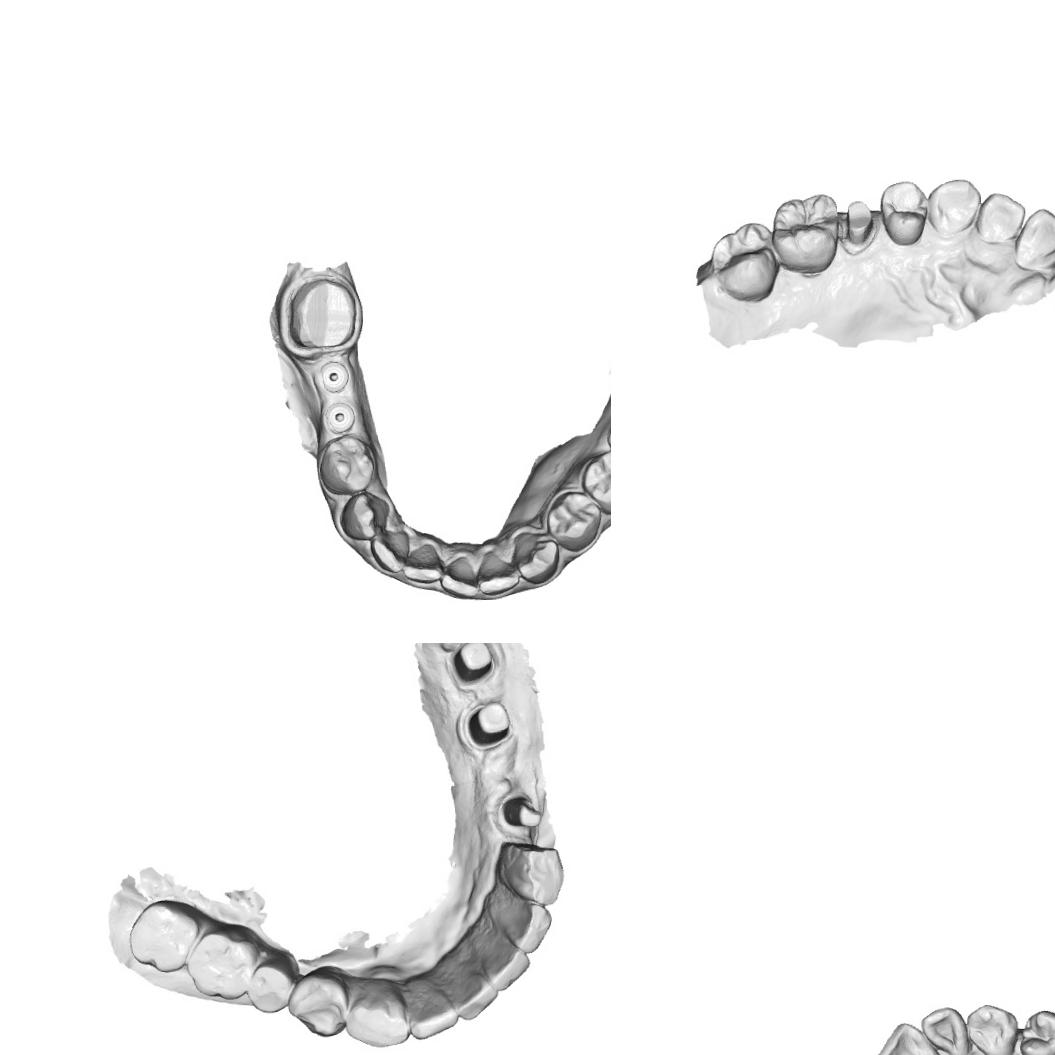abutment: (464, 697, 514, 751), (501, 790, 545, 832), (451, 643, 496, 684)
canine: (342, 976, 413, 1050), (495, 838, 567, 907), (926, 176, 984, 238), (337, 488, 393, 545), (964, 1002, 1019, 1055), (510, 528, 560, 586)
crown: (838, 198, 878, 256)
implant: (319, 397, 359, 435), (316, 360, 354, 394)
incisor: (498, 896, 554, 957), (408, 982, 461, 1042), (446, 968, 501, 1024), (974, 189, 1027, 246), (480, 936, 531, 995), (1012, 206, 1055, 271), (919, 1004, 972, 1055), (874, 1019, 946, 1055), (473, 546, 520, 599), (368, 527, 416, 576), (399, 540, 444, 591), (436, 553, 480, 605)
molar: (123, 895, 201, 978), (769, 192, 842, 276), (708, 220, 780, 304), (282, 276, 360, 352), (186, 928, 260, 1004)
premolar: (284, 965, 352, 1041), (316, 432, 379, 497), (542, 488, 604, 554), (878, 179, 931, 248), (246, 958, 297, 1016), (578, 447, 611, 518), (1017, 1007, 1055, 1055)
